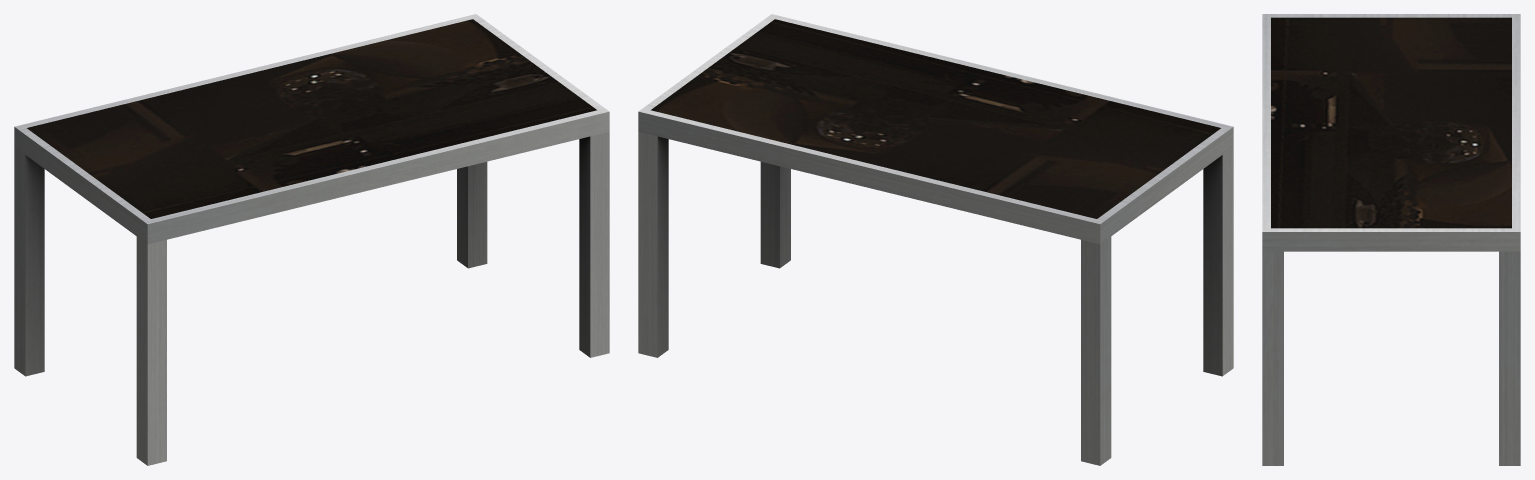
3 renders of one model, left to right at view 1: azimuth 30°, elevation 25°; view 2: azimuth 150°, elevation 25°; view 3: azimuth 270°, elevation 25°, orthographic. The views are drawn at different scales.
Visible parts, largest first — view 1: zhuozi9; view 2: zhuozi9; view 3: zhuozi9.
Boxes of the visible parts, box(x1,y1,x2,y2) form: zhuozi9: box(14, 14, 609, 465); zhuozi9: box(638, 14, 1233, 465); zhuozi9: box(1262, 14, 1520, 465).
Size of the model in its own units: 120 by 60 by 60.
1 material, 1 textured.
